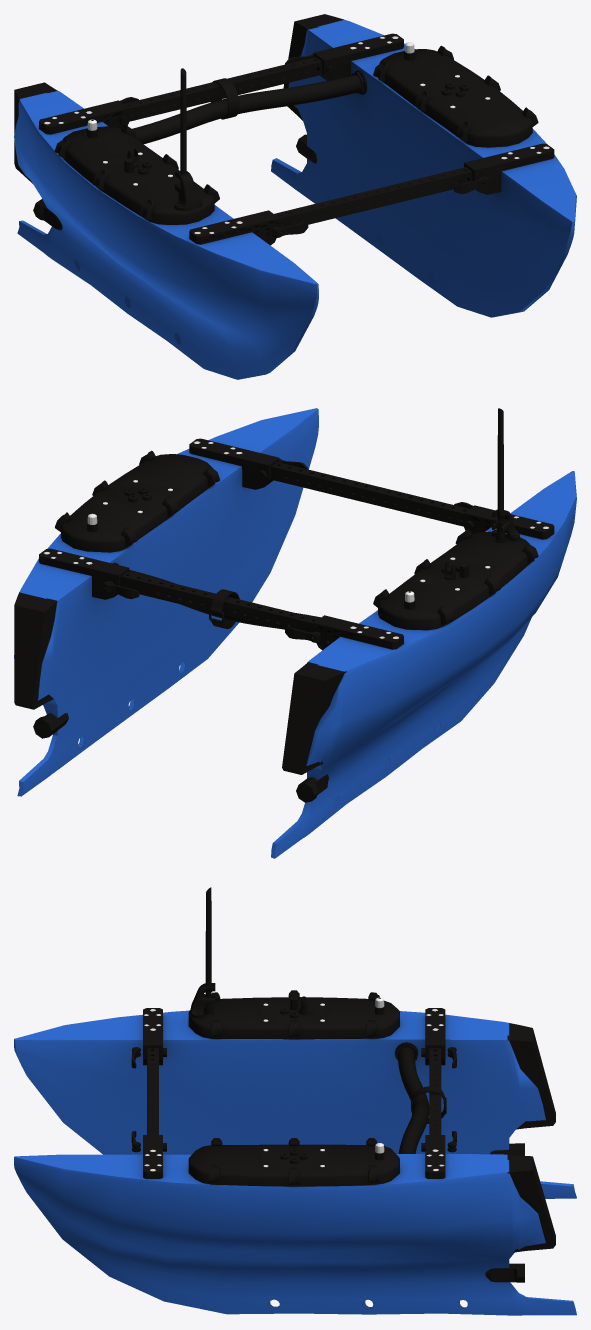
Rendered from blueboat_chassis_visual.glb.
The picture shows the model from 3 angles, top to bottom: view 1: azimuth 30°, elevation 25°; view 2: azimuth 150°, elevation 25°; view 3: azimuth 270°, elevation 25°; orthographic projection. The views are drawn at different scales.
Visible parts, largest first — view 1: blueboat_chassis.visual; view 2: blueboat_chassis.visual; view 3: blueboat_chassis.visual.
Part boxes in pixels (left/top/right/bottom): blueboat_chassis.visual: left=14, top=14, right=576, bottom=379; blueboat_chassis.visual: left=14, top=408, right=576, bottom=858; blueboat_chassis.visual: left=14, top=887, right=576, bottom=1315.
Bounding box in the file's own units: 0.9247 × 0.6918 × 1.19.
Materials: 1 (1 with a texture image).
